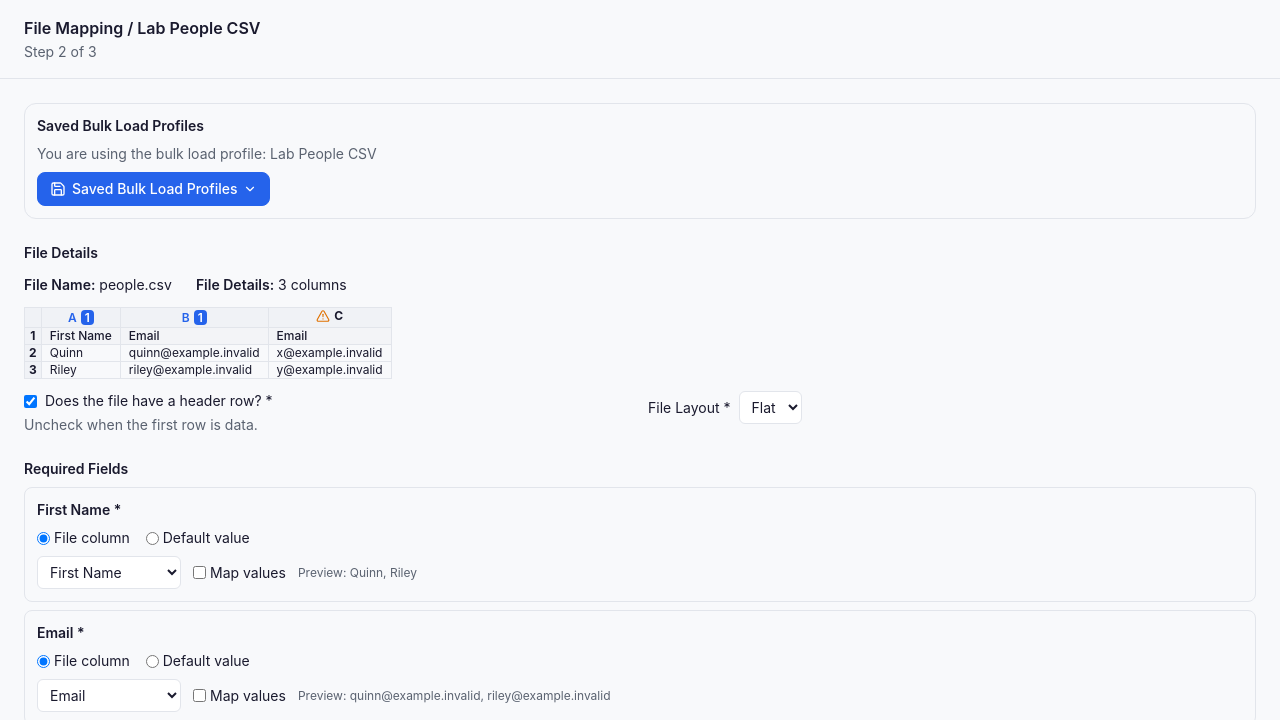
Test case: saved bulk load profiles (#726) › counts unsaved changes with their list, resets them, and saves an update after the confirm
Expected: the text "Unsaved Change" is not shown
Select "Select a column" in the dropdown named "Column for First Name" at [109, 572], box top-left (37, 556), bottom-right (181, 589)
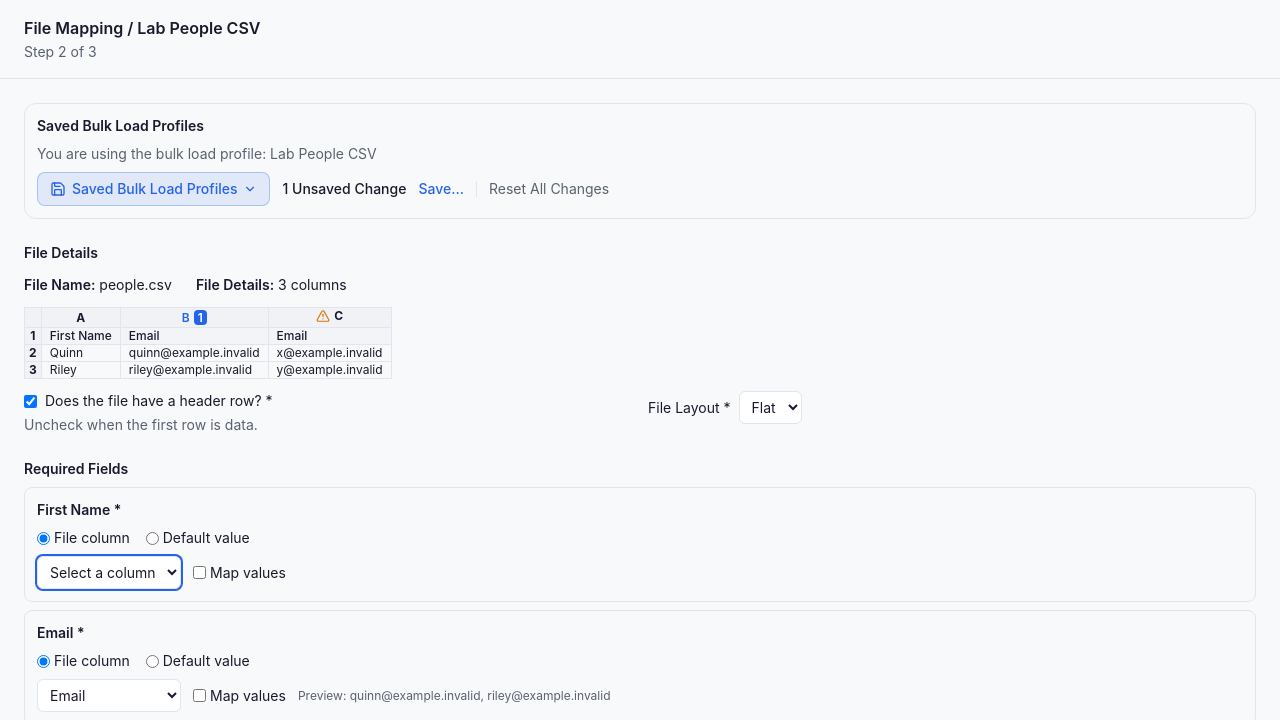
Now the text "1 Unsaved Change" is shown, box top-left (282, 179), bottom-right (406, 199)
Click the button "Reset All Changes" at [549, 189], box top-left (485, 179), bottom-right (613, 199)
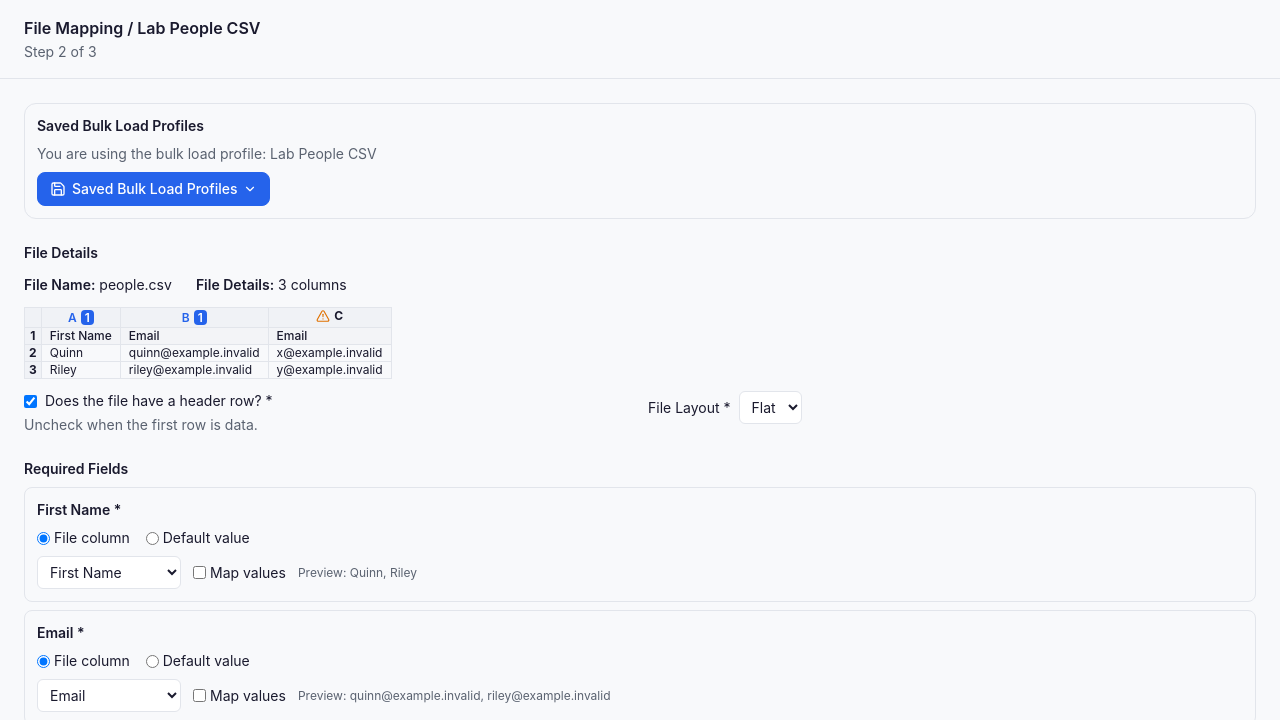
Now the dropdown named "Column for First Name" shows "First Name", box top-left (37, 556), bottom-right (181, 589)
Now the text "Unsaved Change" is gone
Select "Select a column" in the dropdown named "Column for Email" at [109, 696], box top-left (37, 679), bottom-right (181, 712)
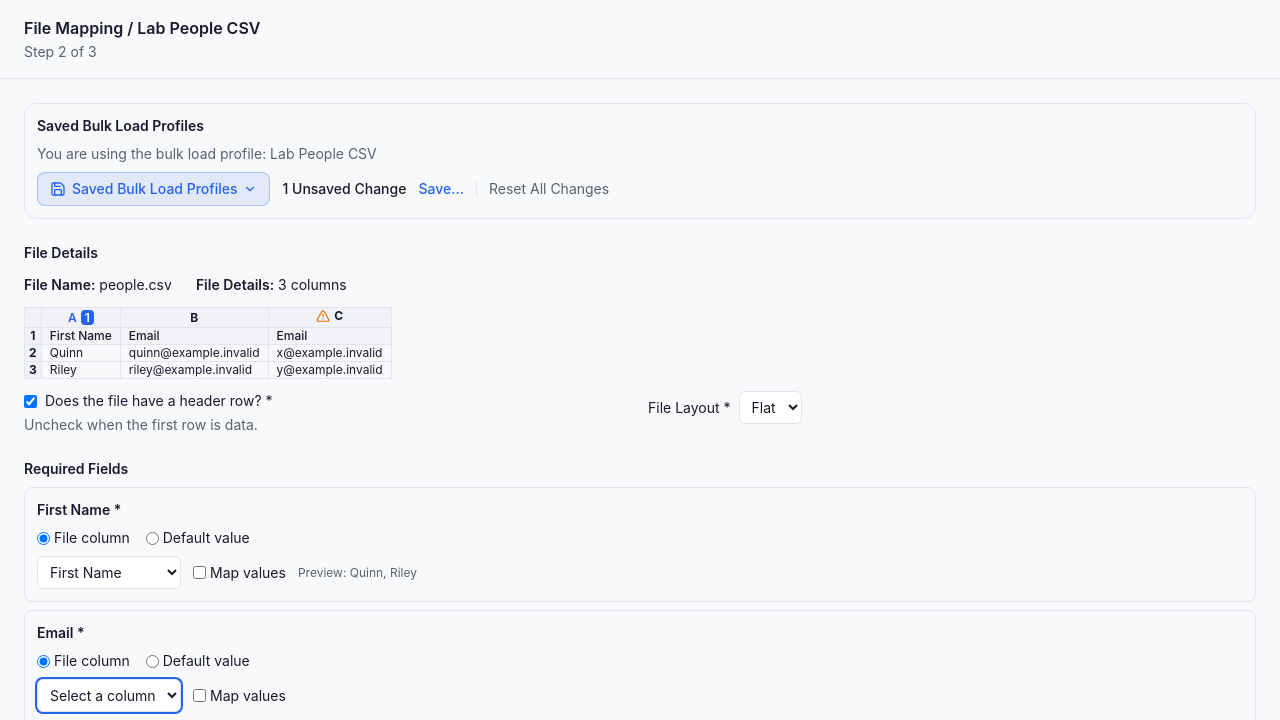
Click the button "Save…" at [441, 189], box top-left (414, 179), bottom-right (468, 199)
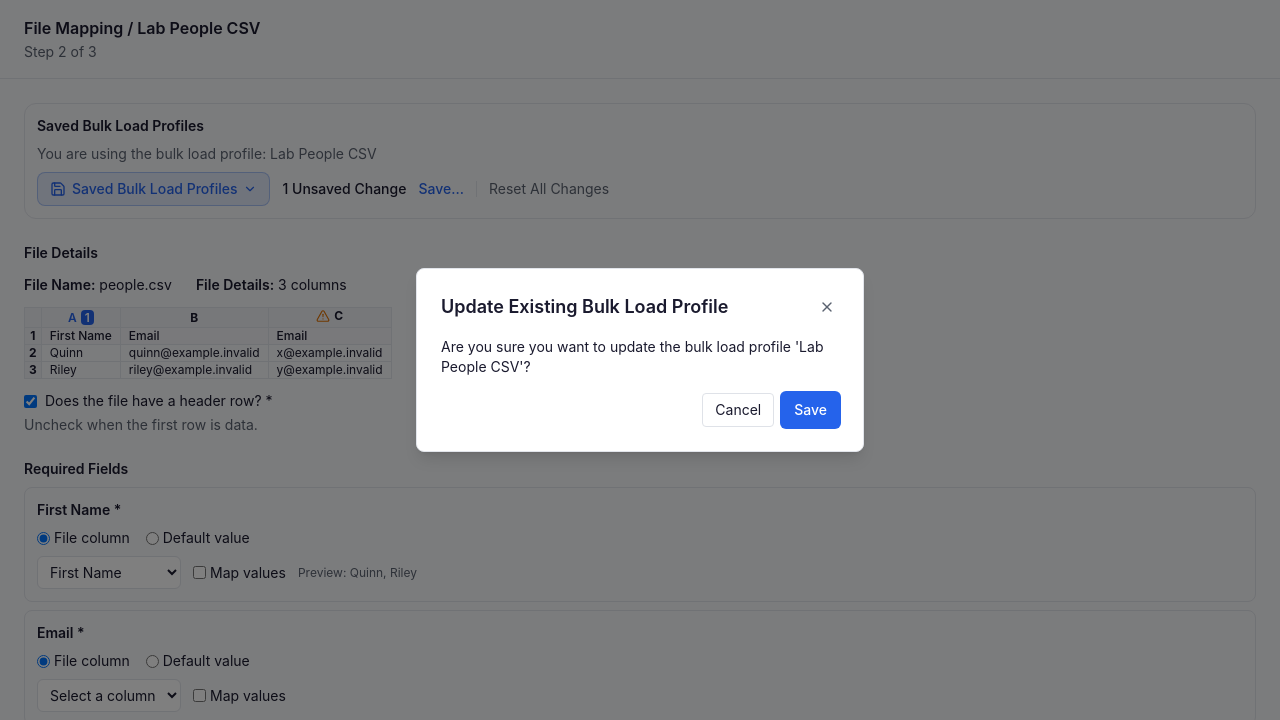
Now the dialog "Update Existing Bulk Load Profile" shows "Are you sure you want to update the bulk load profile 'Lab People CSV'?", box top-left (441, 338), bottom-right (824, 375)
Press Enter
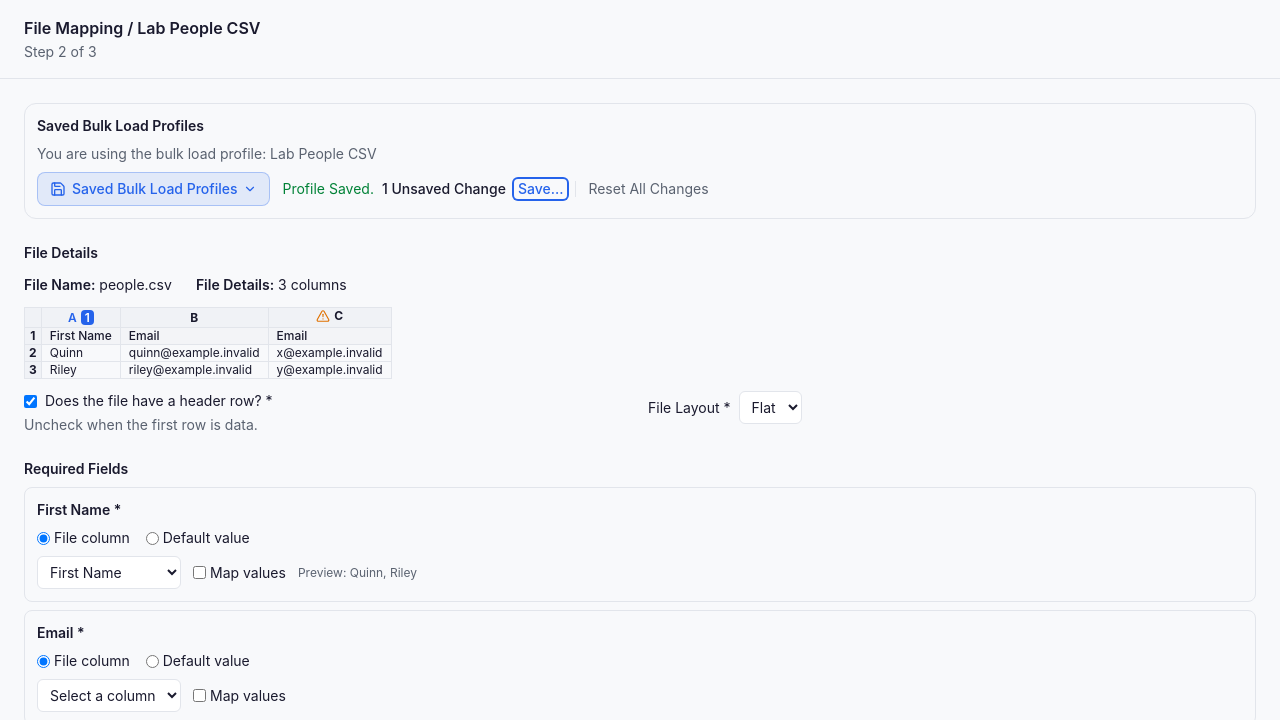
Now the text "Profile Saved." is shown, box top-left (282, 179), bottom-right (374, 199)
